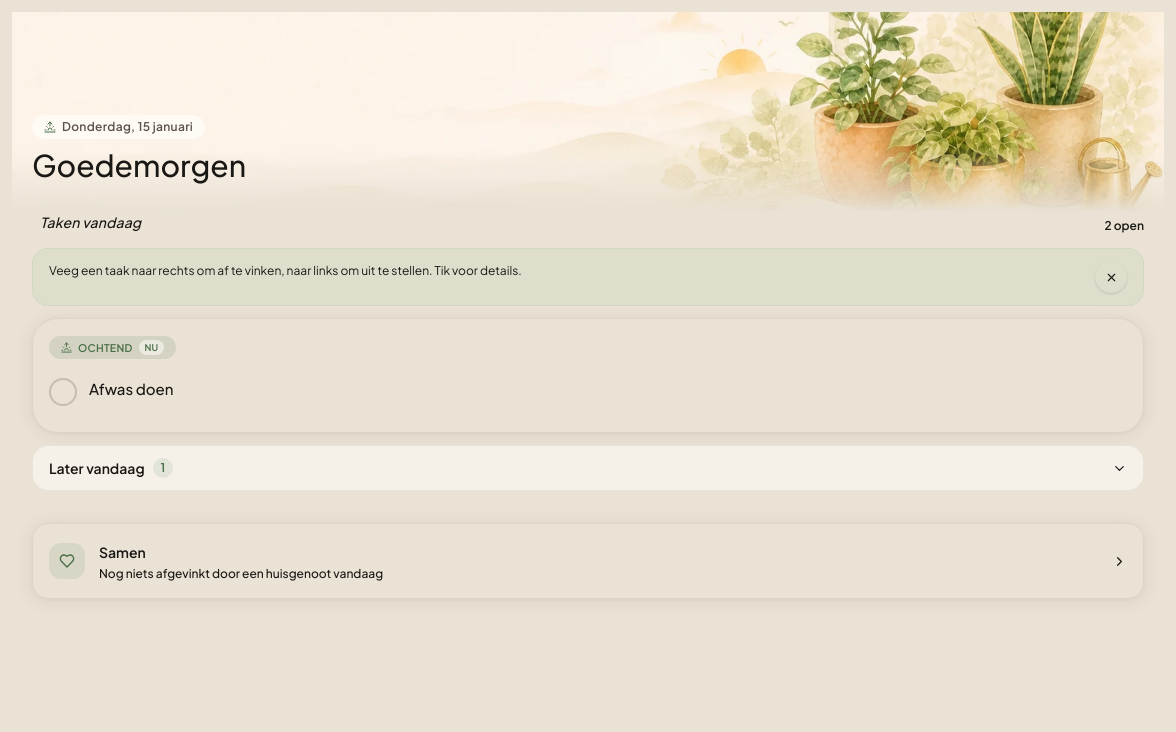
VandaagPage › shows the current dagdeel's tasks and tucks a later one behind Later vandaag
The image size is (1176, 732).
Expected: the text "Afwas doen" is shown, [89, 379, 174, 398]
Expected: the text "Vuilnis buiten zetten" is not shown
Click the button "Later vandaag 1" at (97, 468), box [33, 446, 1143, 490]
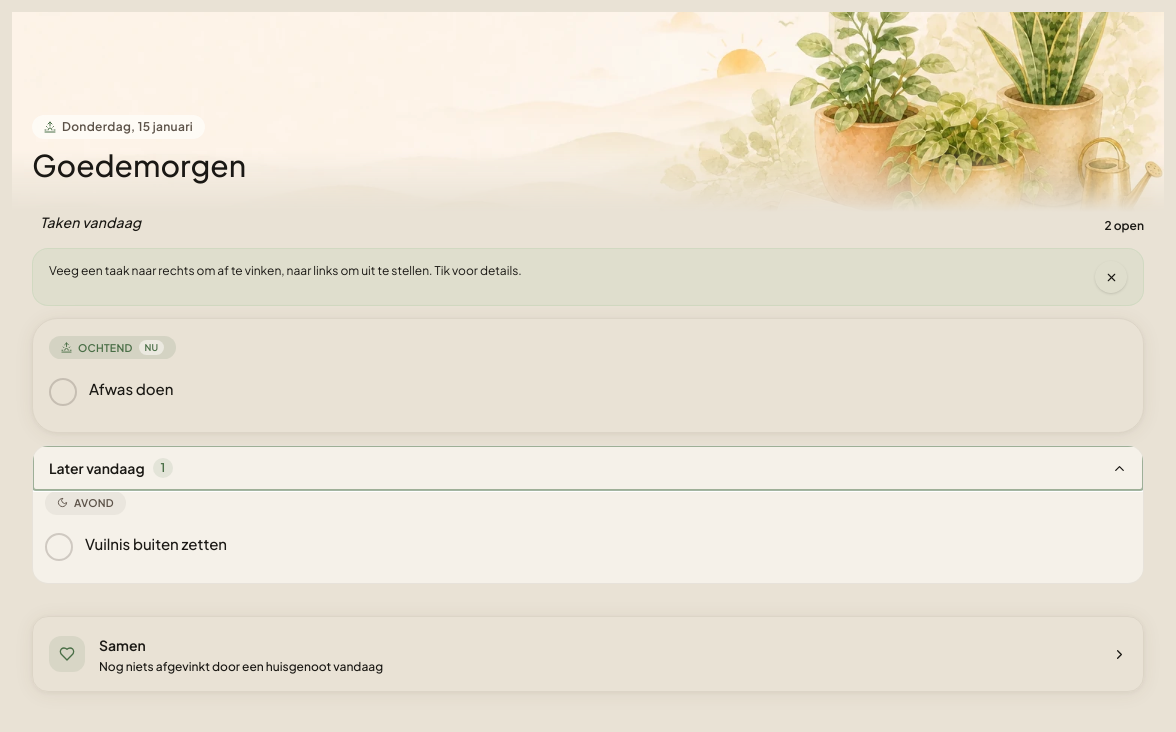
Expected: the button "Later vandaag 1" is expanded, [33, 446, 1143, 490]
Expected: the text "Vuilnis buiten zetten" is shown, [85, 534, 227, 553]
